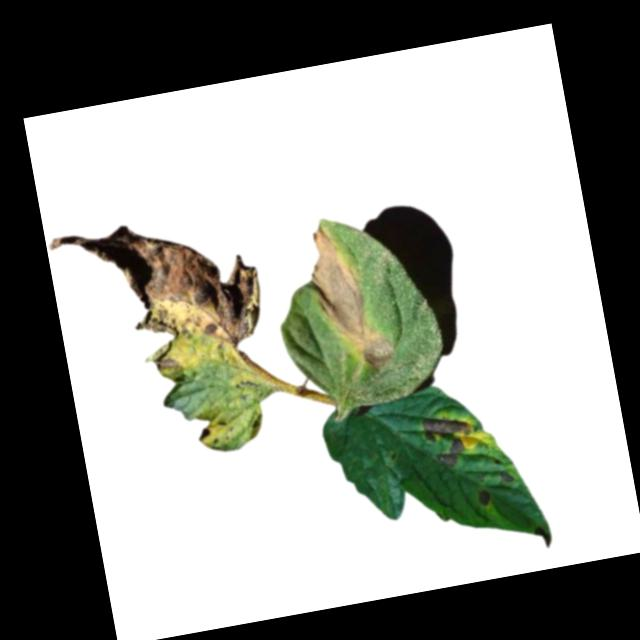Early_blight: (46, 199, 271, 385), (299, 214, 396, 379), (419, 408, 478, 472), (532, 520, 553, 549), (477, 487, 496, 506), (498, 466, 518, 484), (194, 424, 211, 441)
